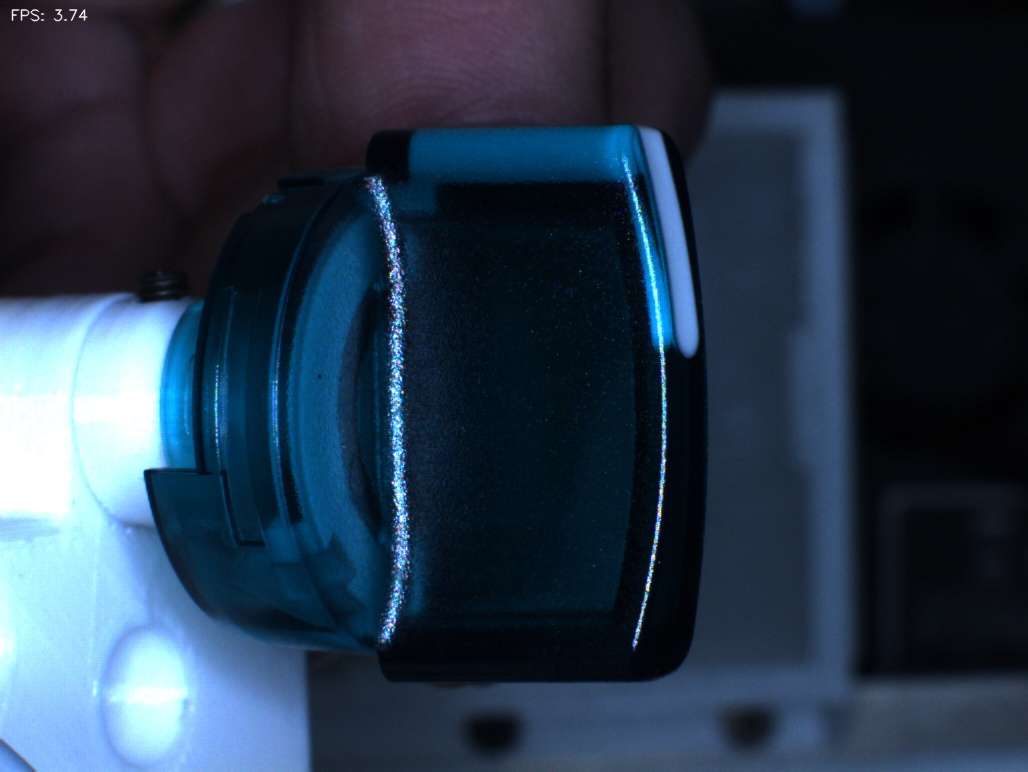PointNoir: (288, 335, 360, 414)
